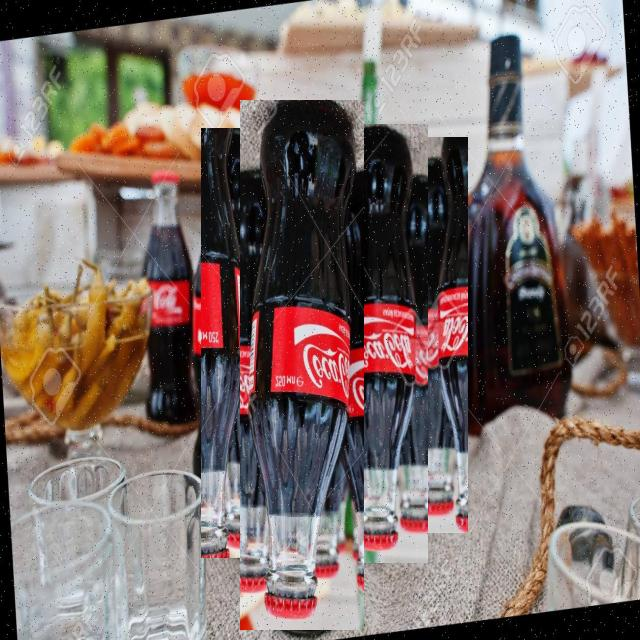coca-cola: (240, 100, 364, 630), (334, 124, 428, 563), (201, 128, 293, 558), (386, 137, 468, 533), (133, 162, 198, 438)
